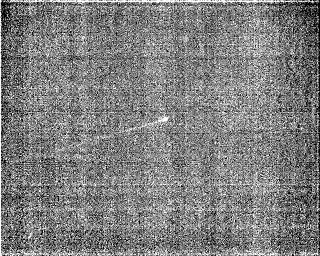AIRPLANE: (81, 114, 171, 144)
